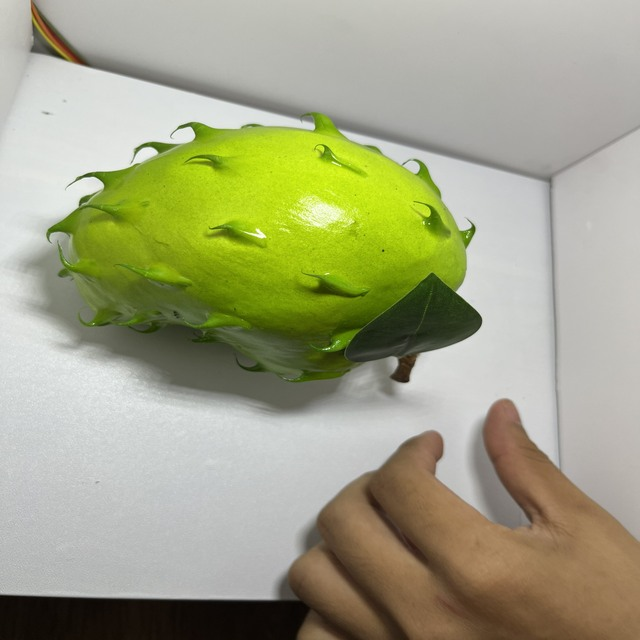Man cau: (36, 112, 482, 387)
